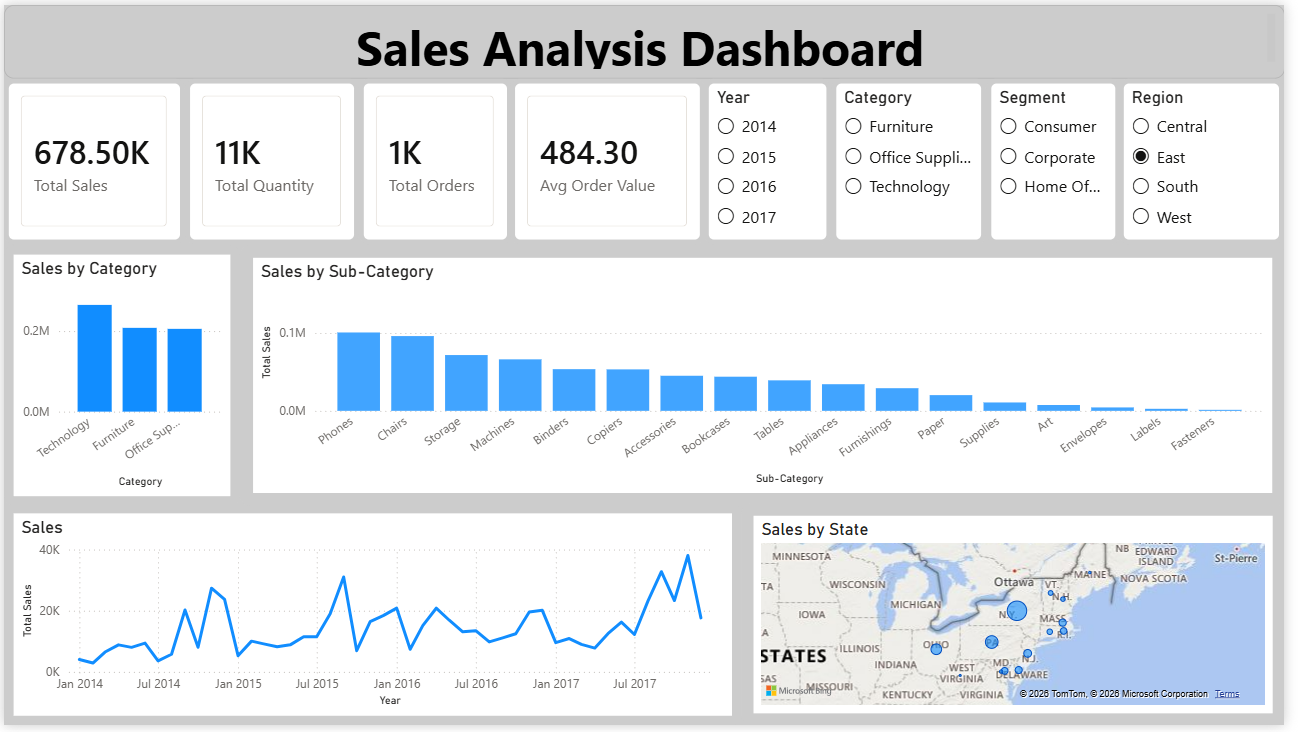

This screenshot's page, from the dashboard's own definition file:
{"tool":"powerbi","page":{"name":"Sales Analysis Dashboard","canvas":[1280,720],"ordinal":1},"visuals":[{"type":"textbox","box":[0,0,1280.5,73.4],"z":0},{"type":"cardVisual","fields":{"Data":["Sale.Total Sales"]},"box":[0,73.4,180.7,166],"z":1000},{"type":"cardVisual","fields":{"Data":["Sale.Total Quantity"]},"box":[180.7,73.4,173.9,166],"z":2000},{"type":"cardVisual","fields":{"Data":["Sale.Total Orders"]},"box":[354.6,73.4,152.4,166],"z":3000},{"type":"cardVisual","fields":{"Data":["Sale.Avg Order Value"]},"box":[505.9,73.4,194.2,166],"z":4000},{"type":"clusteredColumnChart","title":"Sales by Category","fields":{"Category":["Sale.Category"],"Y":["Sale.Total Sales"]},"box":[0,239.4,236,260.8],"z":5000},{"type":"lineChart","title":"Sales","fields":{"Y":["Sale.Total Sales"],"Category":["Sale.Order Date.Variation.Date Hierarchy.Year","Sale.Order Date.Variation.Date Hierarchy.Quarter","Sale.Order Date.Variation.Date Hierarchy.Month"]},"box":[0,499.1,737.3,221.3],"z":6000},{"type":"columnChart","title":"Sales by Sub-Category","fields":{"Category":["Sale.Sub-Category"],"Y":["Sale.Total Sales"]},"box":[236,239.4,1044.5,260.8],"z":7000},{"type":"map","title":"Sales by State","fields":{"Size":["Sale.Total Sales"],"Category":["Sale.State"]},"box":[737.3,499.1,543.1,221.3],"z":8000},{"type":"listSlicer","fields":{"Values":["Sale.Year"]},"box":[700.1,73.4,127.6,166],"z":9000},{"type":"listSlicer","fields":{"Values":["Sale.Category"]},"box":[827.7,73.4,154.7,166],"z":10000},{"type":"listSlicer","fields":{"Values":["Sale.Segment"]},"box":[982.4,73.4,133.2,166],"z":11000},{"type":"listSlicer","fields":{"Values":["Sale.Region"]},"box":[1115.6,73.4,164.9,166],"z":12000}]}

Visuals, with their boxes in screenshot pixels (x1, y1, x2, y2), scaled from the page's 1280x720 canvas onto the 1298x732 screenshot:
textbox: select_region(0, 0, 1297, 75)
cardVisual - Sale.Total Sales: select_region(0, 75, 183, 243)
cardVisual - Sale.Total Quantity: select_region(183, 75, 360, 243)
cardVisual - Sale.Total Orders: select_region(360, 75, 514, 243)
cardVisual - Sale.Avg Order Value: select_region(513, 75, 710, 243)
"Sales by Category" clusteredColumnChart: select_region(0, 243, 239, 509)
"Sales" lineChart: select_region(0, 507, 748, 731)
"Sales by Sub-Category" columnChart: select_region(239, 243, 1297, 509)
"Sales by State" map: select_region(748, 507, 1297, 731)
listSlicer - Sale.Year: select_region(710, 75, 839, 243)
listSlicer - Sale.Category: select_region(839, 75, 996, 243)
listSlicer - Sale.Segment: select_region(996, 75, 1131, 243)
listSlicer - Sale.Region: select_region(1131, 75, 1297, 243)
